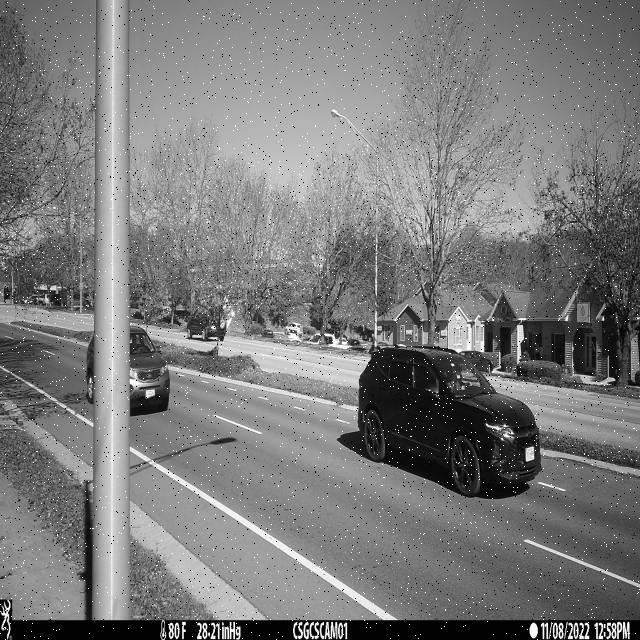SUV: (357, 345, 542, 498)
